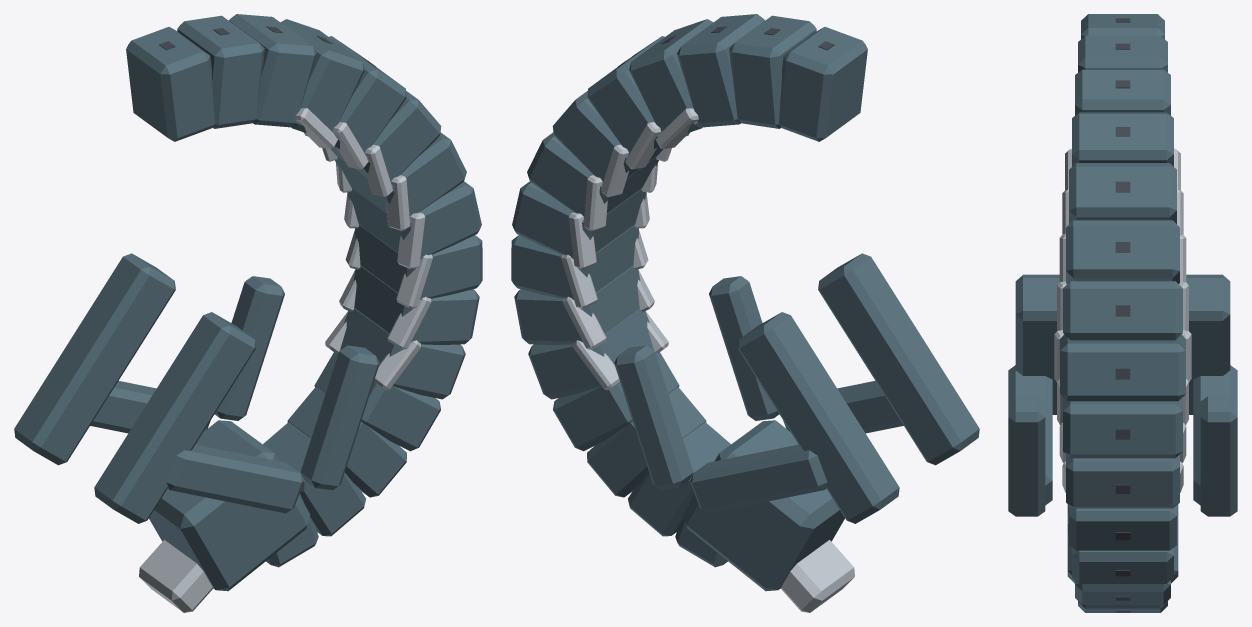
Rendered from hadal_sleeper.glb.
3 views of the same model, side by side, from view 1: azimuth 30°, elevation 25°; view 2: azimuth 150°, elevation 25°; view 3: azimuth 270°, elevation 25° (orthographic).
Parts seen in each view (by area): view 1: hide, bone2; view 2: hide, bone2; view 3: hide, bone2, void, void.001.
Boxes of the visible parts, x1,y1,x2,y2 form: hide: (14,14,482,591); bone2: (139,108,432,612); hide: (511,14,979,591); bone2: (561,108,854,612); hide: (1008,14,1237,612); bone2: (1054,148,1191,492); void: (1115,18,1130,600); void.001: (1115,43,1130,612).
Bounding box in the file's own units: 125 × 169 × 62.
